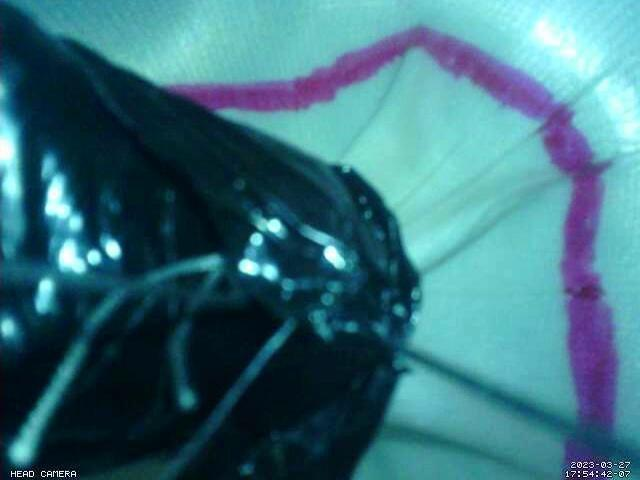red-circle: (161, 24, 620, 480)
